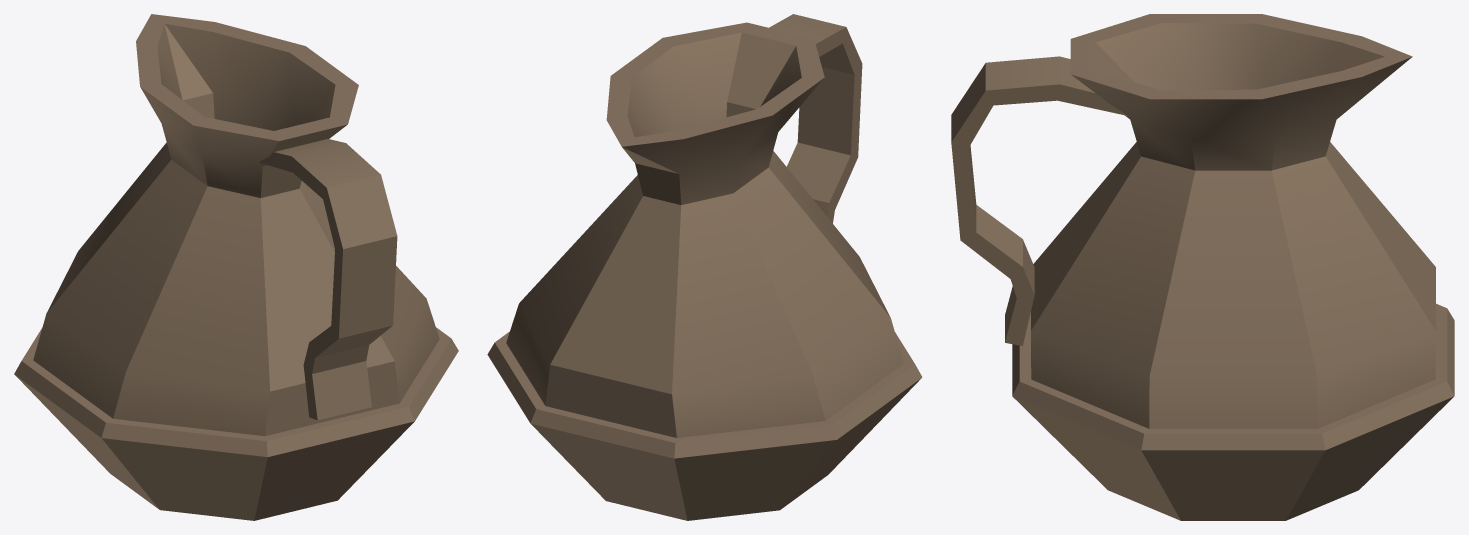
The model's file is EA_Items_House_kettle_01a.glb.
The picture shows the model from 3 angles, left to right: view 1: azimuth 30°, elevation 25°; view 2: azimuth 150°, elevation 25°; view 3: azimuth 270°, elevation 25°; orthographic projection. The views are drawn at different scales.
Parts seen in each view (by area): view 1: EA_Items_House_kettle_01a; view 2: EA_Items_House_kettle_01a; view 3: EA_Items_House_kettle_01a.
Boxes of the visible parts, box(x1,y1,x2,y2) form: EA_Items_House_kettle_01a: box(14, 14, 458, 520); EA_Items_House_kettle_01a: box(487, 14, 922, 520); EA_Items_House_kettle_01a: box(951, 14, 1454, 520).
Size of the model in its own units: 0.2854 by 0.2983 by 0.3301.
1 material, 1 textured.
